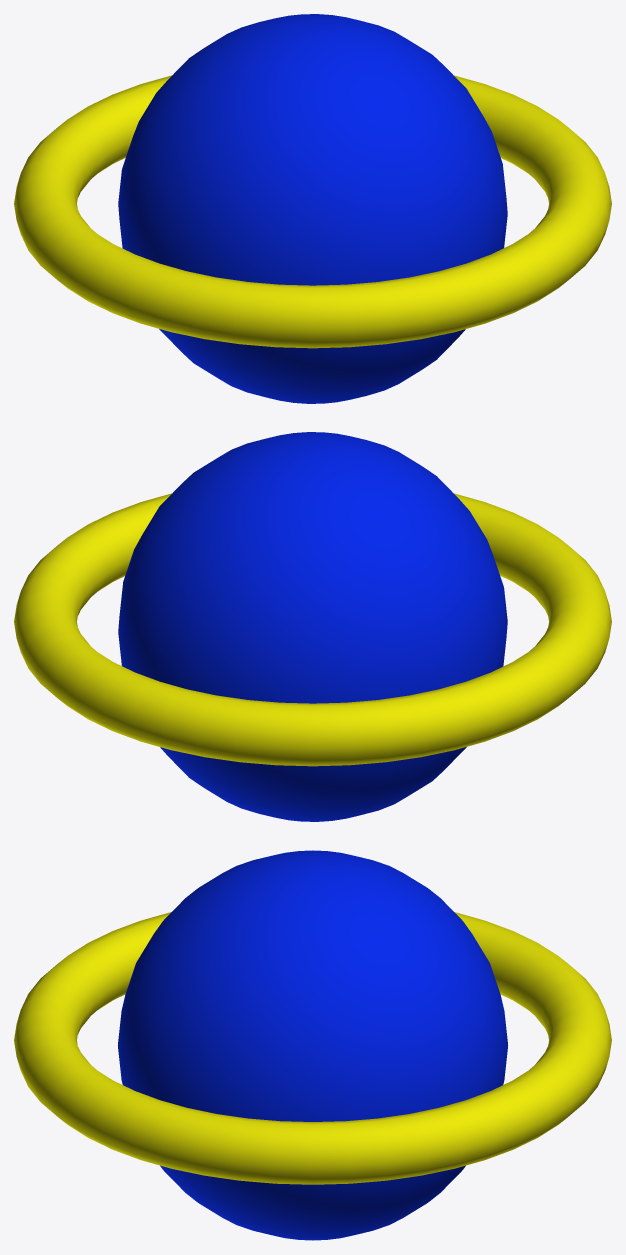
The model's file is silksoulstar.glb.
The picture shows the model from 3 angles, top to bottom: view 1: azimuth 30°, elevation 25°; view 2: azimuth 150°, elevation 25°; view 3: azimuth 270°, elevation 25°; orthographic projection.
Visible parts, largest first — view 1: Sphere, Torus; view 2: Sphere, Torus; view 3: Sphere, Torus.
Boxes of the visible parts, <box> form: Sphere: <box>118,14,507,403</box>; Torus: <box>14,75,611,348</box>; Sphere: <box>118,432,507,821</box>; Torus: <box>14,493,611,766</box>; Sphere: <box>118,850,507,1240</box>; Torus: <box>14,912,611,1184</box>.
Bounding box in the file's own units: 8.32 × 5.43 × 8.32.
